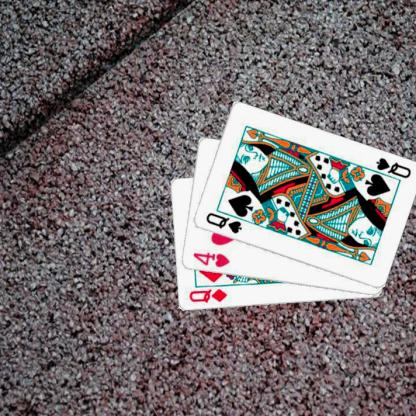4H: (191, 250, 230, 269)
QD: (186, 286, 228, 304)
QS: (203, 210, 243, 235), (373, 155, 412, 180)
